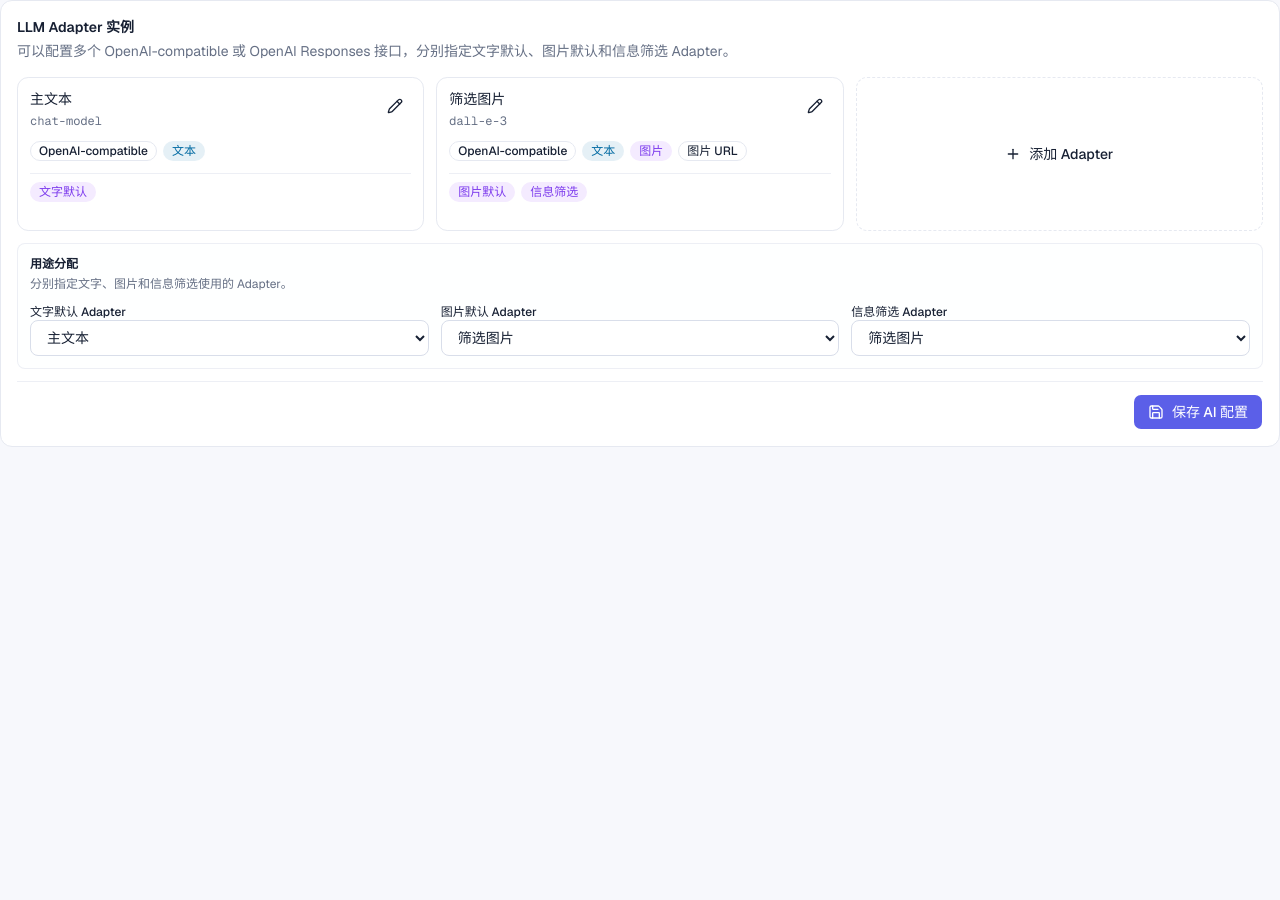
Test: AISection › tests an individual adapter with its current draft values
This screenshot has width=1280, height=900.
Click the button named "编辑 Adapter 主文本": (395, 106) left=379, top=90, right=411, bottom=122
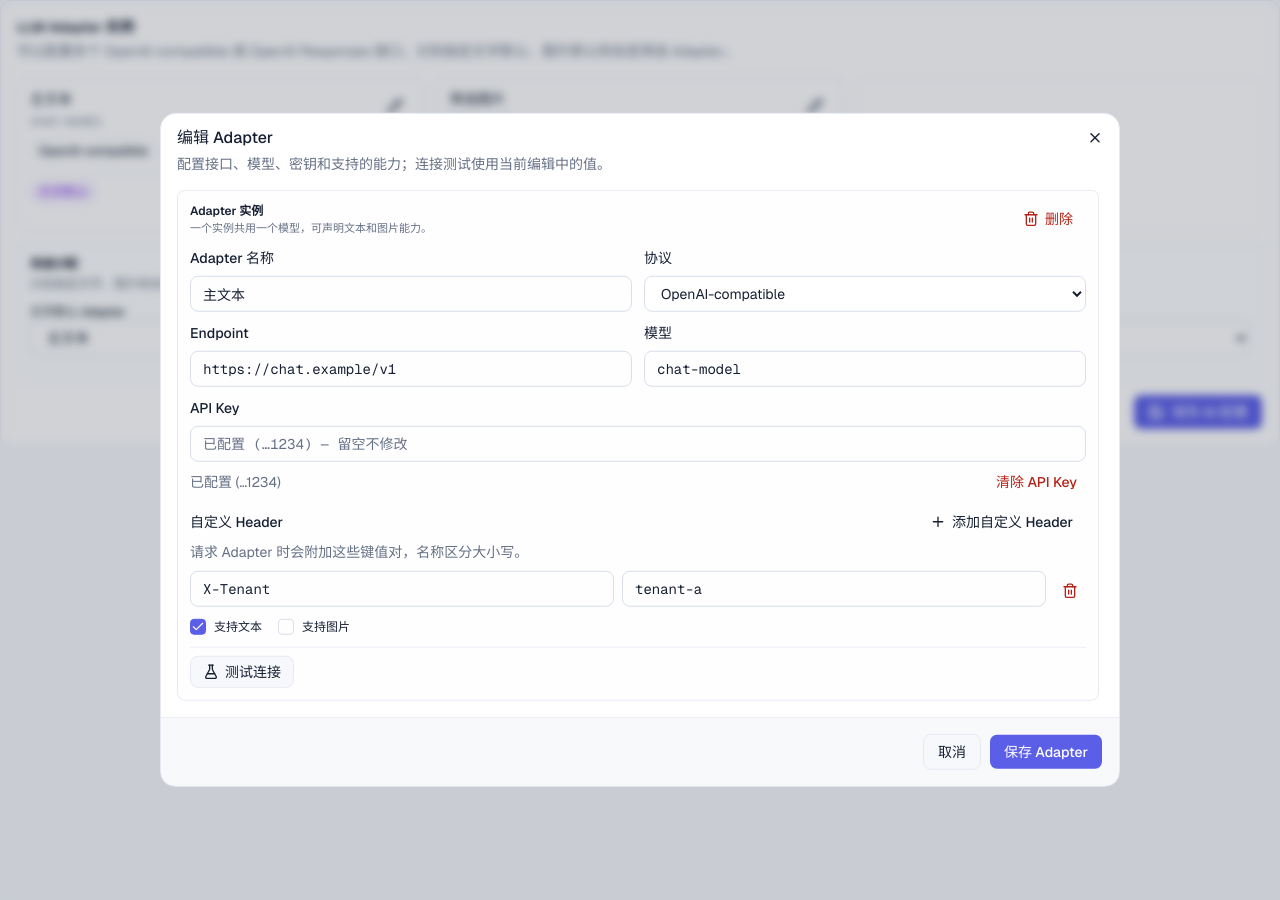
Replace the text in the field labelled "模型" with "draft-model": (865, 369) left=644, top=351, right=1086, bottom=387
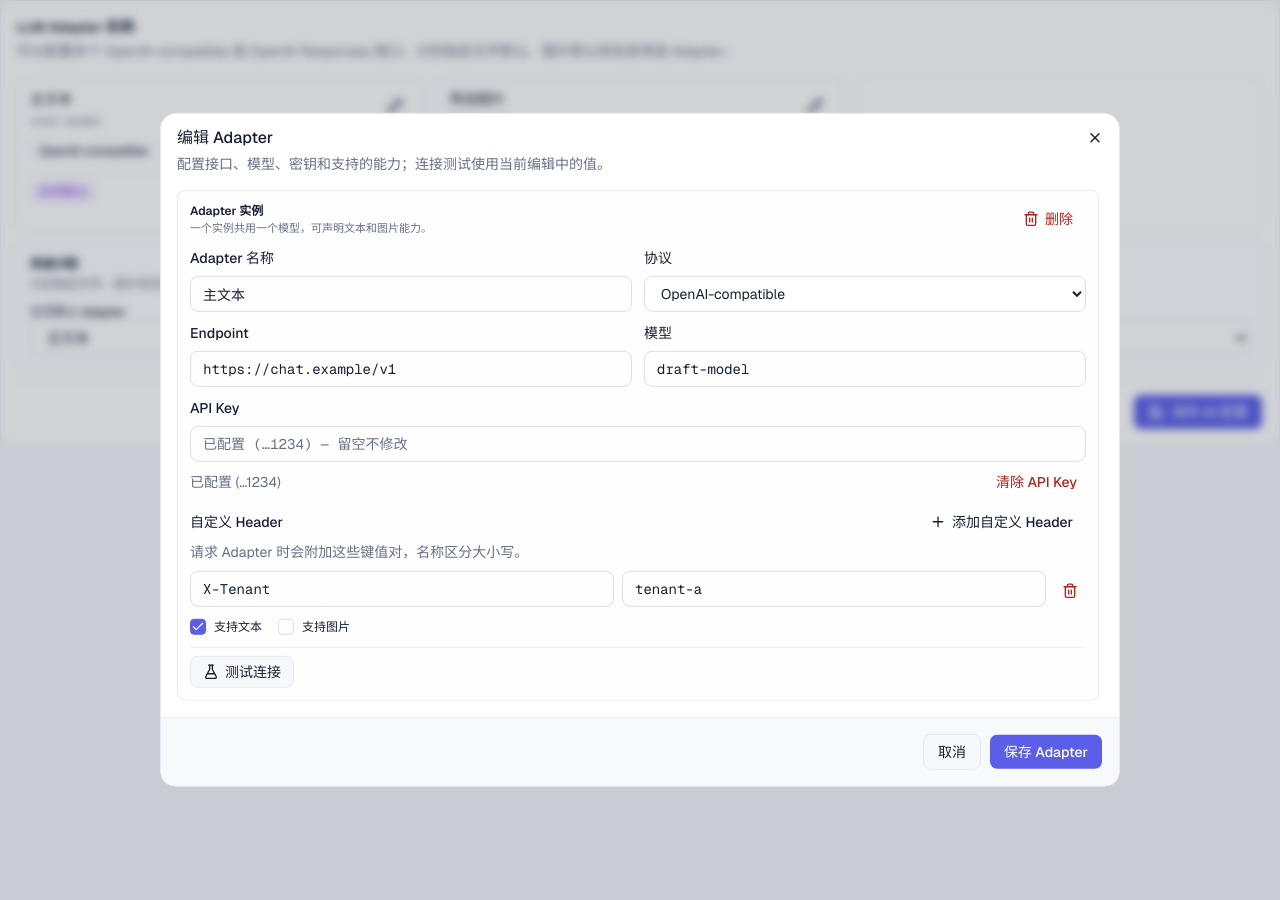
In the password field labelled "API Key": (638, 444) left=190, top=426, right=1086, bottom=462, type "draft-secret"
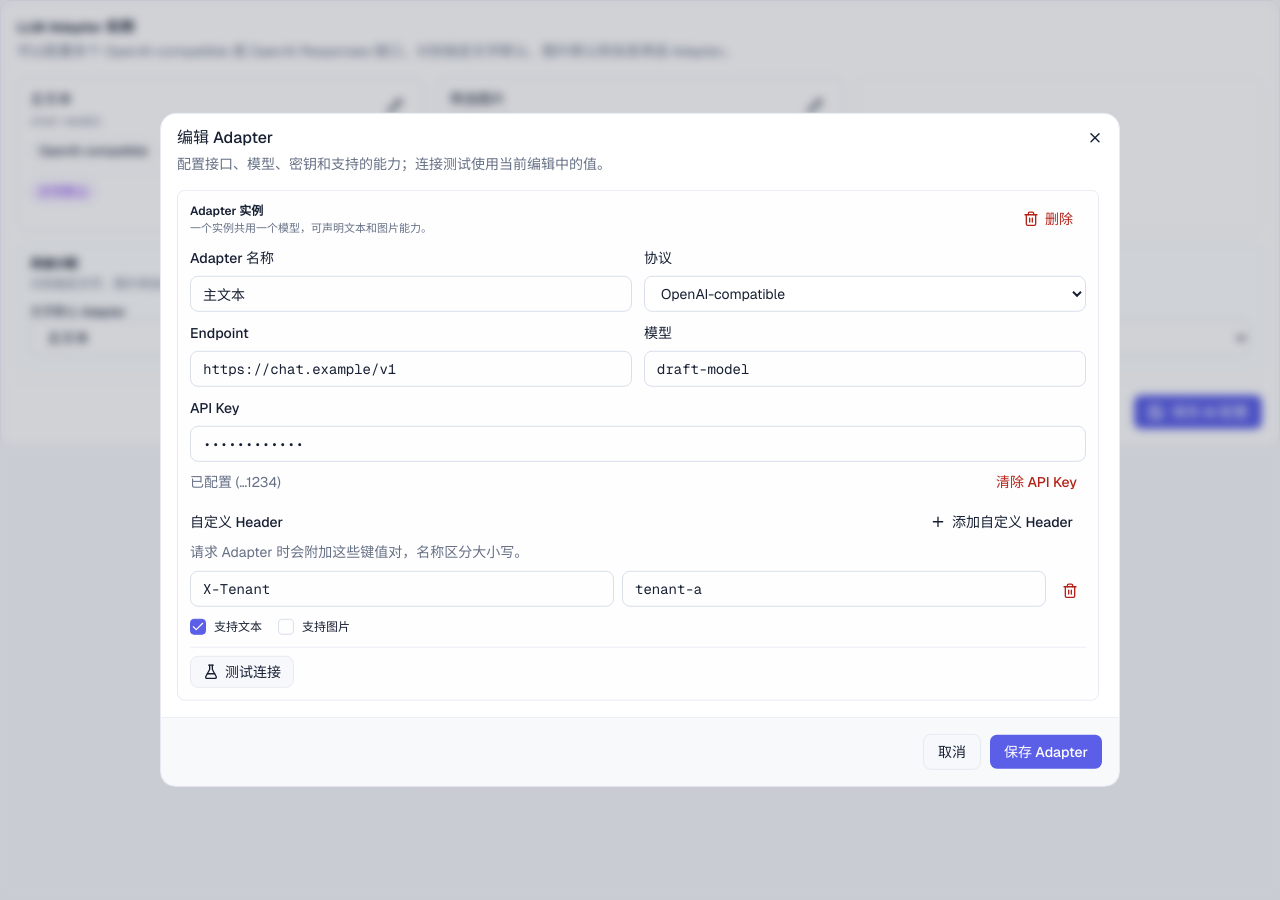
Click the button "测试连接": (242, 672) left=190, top=656, right=294, bottom=688
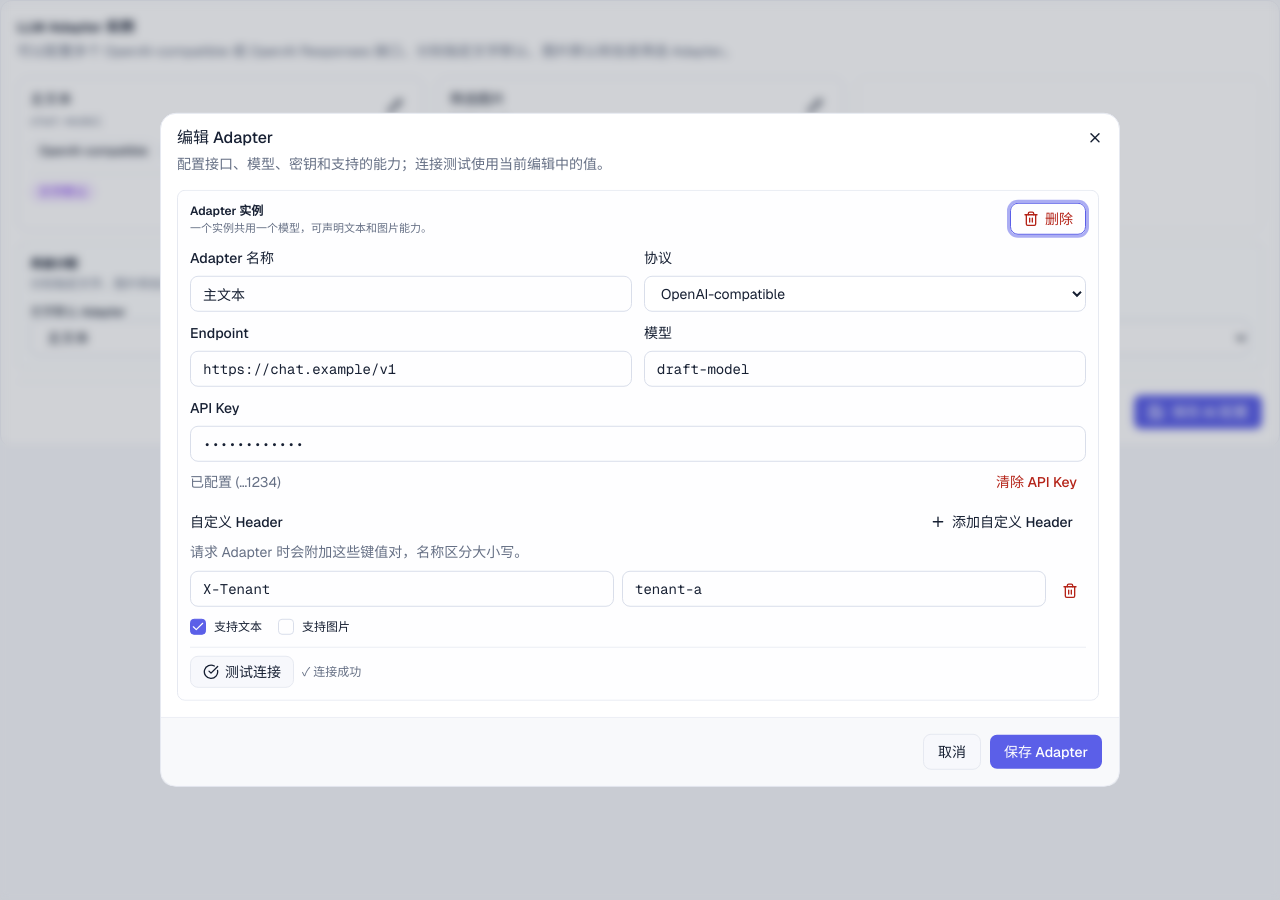
Expected: the text "✓ 连接成功" is shown, left=302, top=664, right=361, bottom=680
